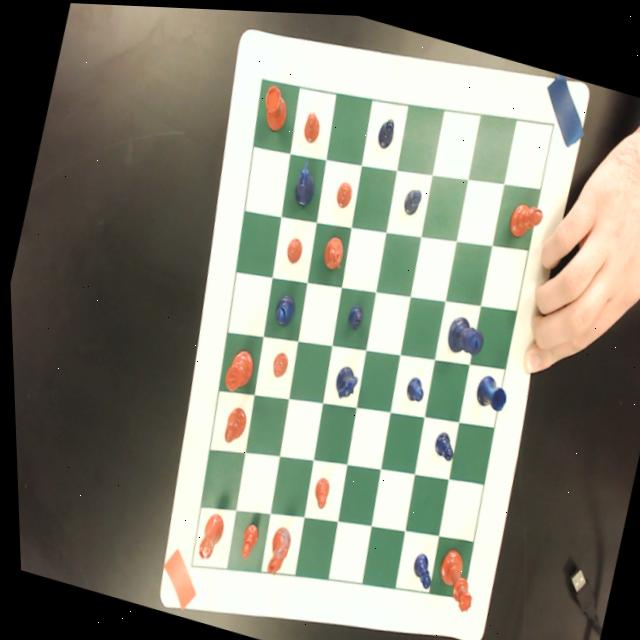B: (268, 288, 297, 327)
K: (441, 309, 486, 356)
N: (287, 153, 321, 207), (329, 362, 357, 399)
P: (403, 545, 433, 587), (426, 425, 455, 460), (373, 112, 396, 149), (398, 181, 422, 215), (400, 370, 425, 401), (342, 299, 363, 328)
R: (468, 368, 508, 409)
b: (502, 192, 544, 241), (218, 403, 246, 445)
k: (218, 343, 256, 395)
n: (257, 519, 291, 577), (317, 231, 347, 271)
p: (232, 517, 259, 561), (299, 106, 323, 142), (305, 471, 328, 507), (331, 176, 354, 208), (281, 232, 304, 263), (267, 347, 288, 377)
q: (425, 541, 479, 611)
r: (257, 81, 293, 132), (191, 509, 224, 563)
